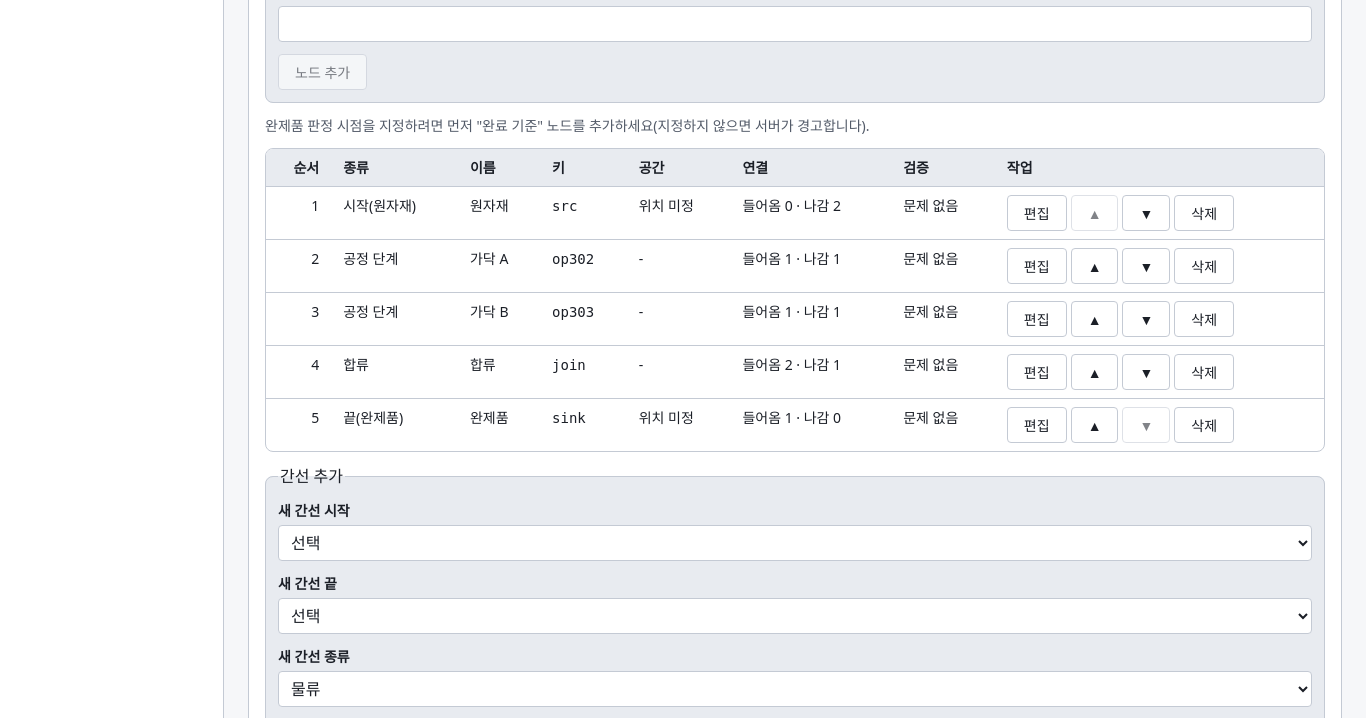
Test: 노드 편집 › 합류 노드에는 설비·공간을 직접 지정하지 않는다는 안내만 있다
(page scrolled)
Check: the table named "노드" is shown, box left=266, top=149, right=1324, bottom=451
Step 1. Click the button with aria-label "노드 합류 편집" → click(1037, 372), box left=1007, top=354, right=1067, bottom=390
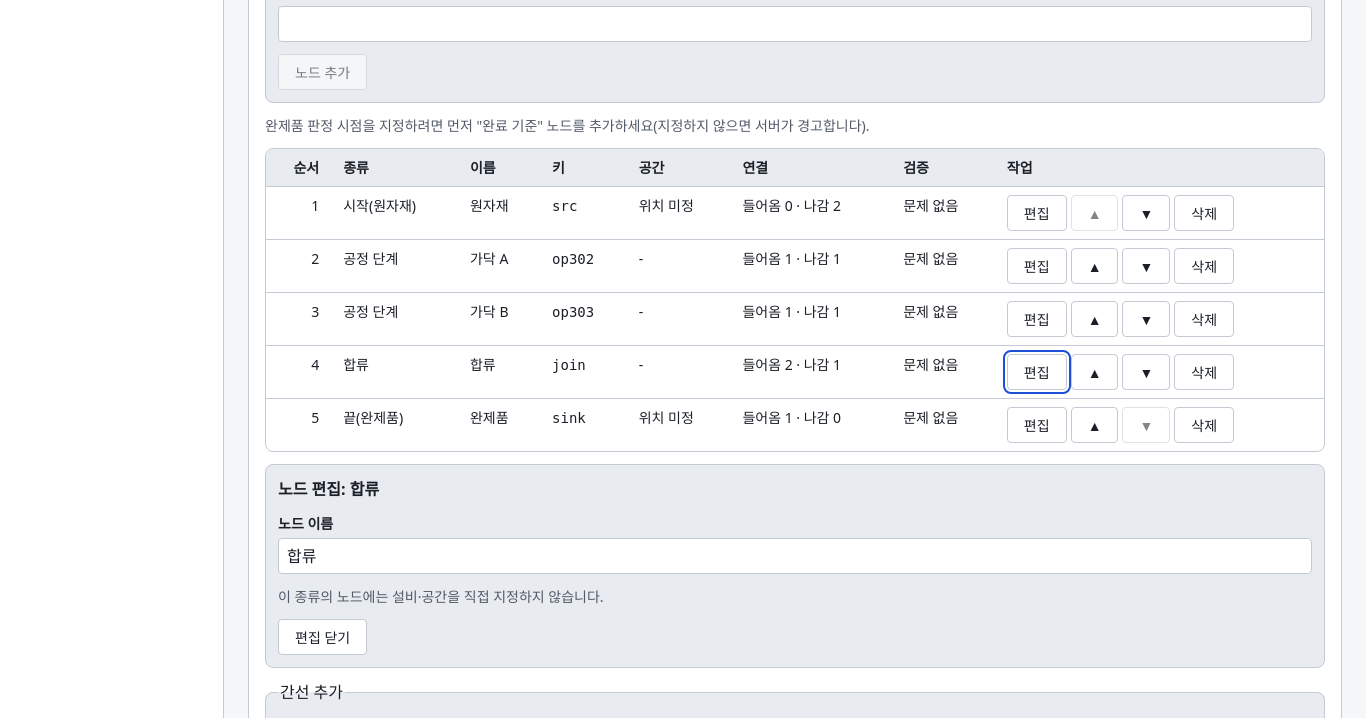
Check: the text "이 종류의 노드에는 설비·공간을 직접 지정하지 않습니다." is shown, box left=278, top=587, right=604, bottom=606
